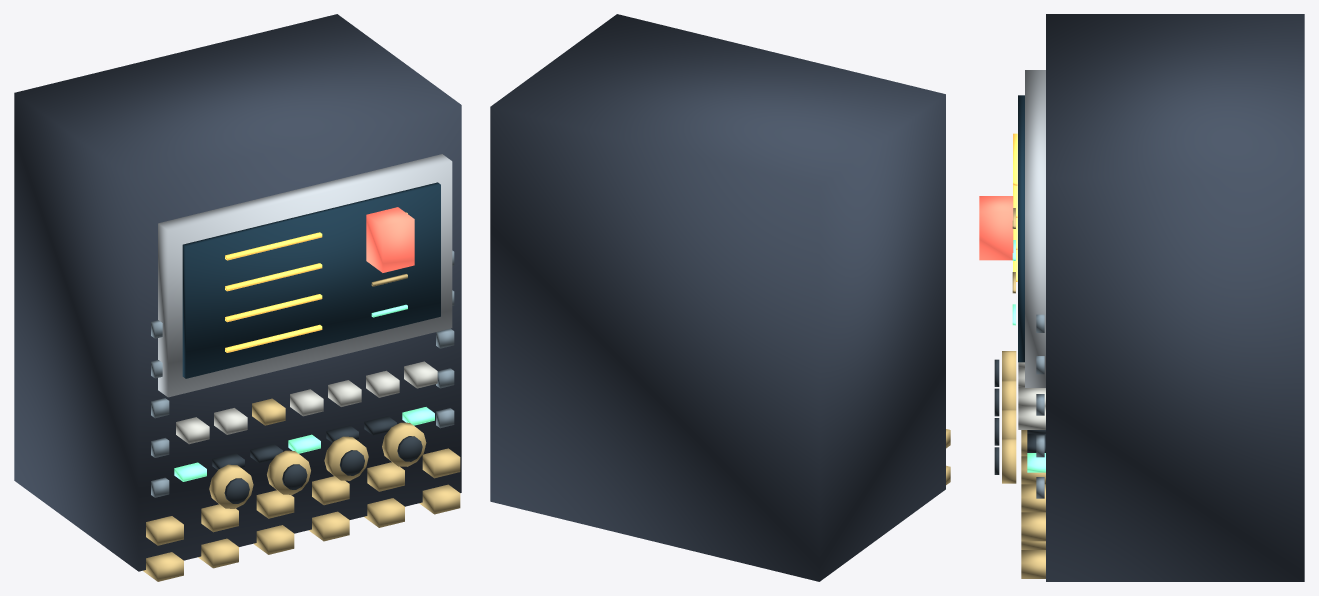
File: 90_L92_FaultDiagnosisAndRepairRouter.glb
3 renders of one model, left to right at view 1: azimuth 30°, elevation 25°; view 2: azimuth 150°, elevation 25°; view 3: azimuth 270°, elevation 25°, orthographic. The views are drawn at different scales.
Visible parts, largest first — view 1: L92_FaultDiagnosisAndRepairRo_Part_0000, L92_FaultDiagnosisAndRepairRo_Part_0002, L92_FaultDiagnosisAndRepairRo_Part_0001, L92_FaultDiagnosisAndRepairRo_Part_0004, L92_FaultDiagnosisAndRepairRo_Part_0006, L92_FaultDiagnosisAndRepairRo_Part_0009, L92_FaultDiagnosisAndRepairRo_Part_0003, L92_FaultDiagnosisAndRepairRo_Part_0008, L92_FaultDiagnosisAndRepairRo_Part_0007, L92_FaultDiagnosisAndRepairRo_Part_0005, L92_FaultDiagnosisAndRepairRo_Part_0016, L92_FaultDiagnosisAndRepairRo_Part_0012 (+2 smaller); view 2: L92_FaultDiagnosisAndRepairRo_Part_0000; view 3: L92_FaultDiagnosisAndRepairRo_Part_0000, L92_FaultDiagnosisAndRepairRo_Part_0001, L92_FaultDiagnosisAndRepairRo_Part_0004, L92_FaultDiagnosisAndRepairRo_Part_0009, L92_FaultDiagnosisAndRepairRo_Part_0002, L92_FaultDiagnosisAndRepairRo_Part_0006, L92_FaultDiagnosisAndRepairRo_Part_0008, L92_FaultDiagnosisAndRepairRo_Part_0016, L92_FaultDiagnosisAndRepairRo_Part_0003, L92_FaultDiagnosisAndRepairRo_Part_0005, L92_FaultDiagnosisAndRepairRo_Part_0014, L92_FaultDiagnosisAndRepairRo_Part_0010 (+1 smaller).
Part boxes in pixels (x1,y1,x2,y2): L92_FaultDiagnosisAndRepairRo_Part_0000: (14, 14, 461, 571); L92_FaultDiagnosisAndRepairRo_Part_0002: (182, 182, 440, 378); L92_FaultDiagnosisAndRepairRo_Part_0001: (158, 154, 452, 397); L92_FaultDiagnosisAndRepairRo_Part_0004: (143, 212, 460, 581); L92_FaultDiagnosisAndRepairRo_Part_0006: (176, 361, 437, 444); L92_FaultDiagnosisAndRepairRo_Part_0009: (366, 207, 414, 272); L92_FaultDiagnosisAndRepairRo_Part_0003: (225, 232, 322, 352); L92_FaultDiagnosisAndRepairRo_Part_0008: (151, 250, 454, 497); L92_FaultDiagnosisAndRepairRo_Part_0007: (212, 416, 396, 469); L92_FaultDiagnosisAndRepairRo_Part_0005: (174, 304, 434, 481); L92_FaultDiagnosisAndRepairRo_Part_0016: (382, 422, 426, 466); L92_FaultDiagnosisAndRepairRo_Part_0012: (267, 450, 310, 494); L92_FaultDiagnosisAndRepairRo_Part_0000: (490, 14, 945, 581); L92_FaultDiagnosisAndRepairRo_Part_0000: (1046, 14, 1304, 581); L92_FaultDiagnosisAndRepairRo_Part_0001: (1025, 70, 1045, 387); L92_FaultDiagnosisAndRepairRo_Part_0004: (1012, 208, 1045, 578); L92_FaultDiagnosisAndRepairRo_Part_0009: (979, 196, 1013, 260); L92_FaultDiagnosisAndRepairRo_Part_0002: (1018, 95, 1024, 362); L92_FaultDiagnosisAndRepairRo_Part_0006: (1018, 362, 1045, 429); L92_FaultDiagnosisAndRepairRo_Part_0008: (1036, 314, 1044, 498); L92_FaultDiagnosisAndRepairRo_Part_0016: (1002, 438, 1016, 483); L92_FaultDiagnosisAndRepairRo_Part_0003: (1013, 133, 1017, 281); L92_FaultDiagnosisAndRepairRo_Part_0005: (1012, 240, 1045, 472); L92_FaultDiagnosisAndRepairRo_Part_0014: (1002, 409, 1016, 438); L92_FaultDiagnosisAndRepairRo_Part_0010: (1002, 351, 1016, 380).
Size of the model in its own units: 1.12 by 1.3 by 0.9405.
